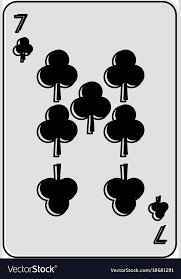seven of clubs: (4, 1, 176, 255)
